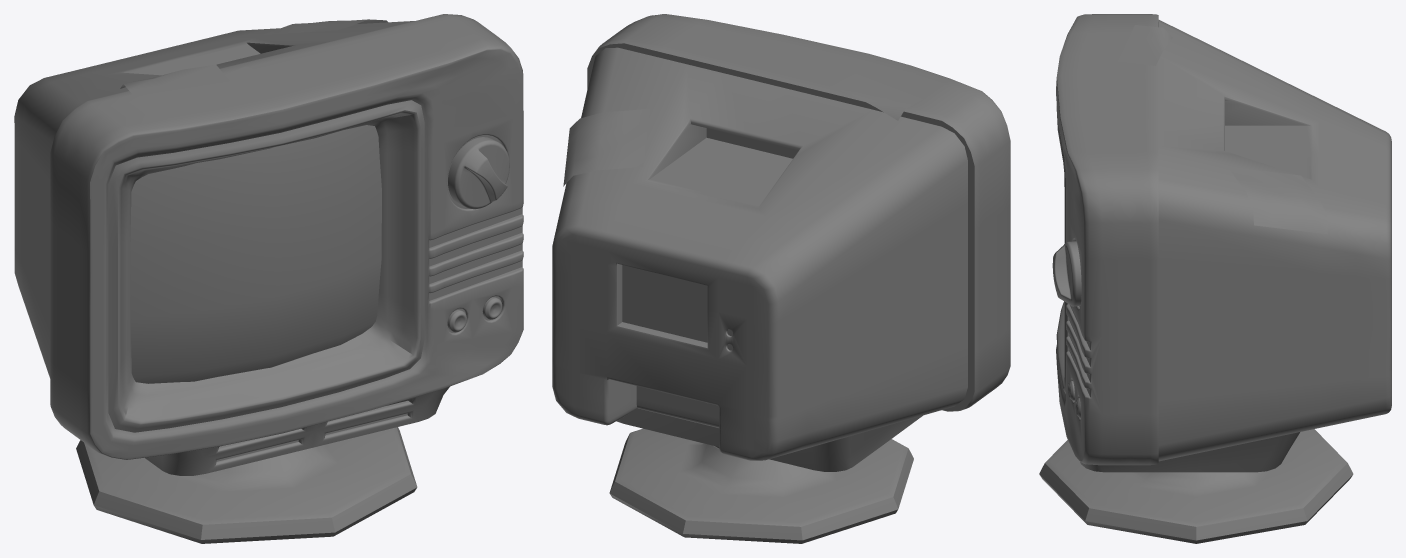
Rendered from TV-Meshgroup-up.glb.
The picture shows the model from 3 angles, left to right: view 1: azimuth 30°, elevation 25°; view 2: azimuth 150°, elevation 25°; view 3: azimuth 270°, elevation 25°; orthographic projection. The views are drawn at different scales.
Visible parts, largest first — view 1: node_id13, node_id9, node_id5, node_id11, node_id7, node_id19, node_id15, node_id17; view 2: node_id11, node_id13, node_id5, node_id19, node_id7; view 3: node_id11, node_id13, node_id5, node_id19, node_id7, node_id15.
Part boxes in pixels (x1,y1,x2,y2): node_id13: [50, 14, 523, 459]; node_id9: [130, 125, 381, 383]; node_id5: [76, 427, 417, 543]; node_id11: [14, 21, 414, 378]; node_id7: [145, 386, 449, 475]; node_id19: [120, 19, 387, 110]; node_id15: [448, 137, 509, 209]; node_id17: [447, 297, 502, 332]; node_id11: [552, 47, 967, 460]; node_id13: [587, 14, 1010, 411]; node_id5: [609, 428, 913, 543]; node_id19: [563, 62, 923, 186]; node_id7: [616, 408, 922, 471]; node_id11: [1158, 20, 1391, 461]; node_id13: [1056, 14, 1158, 465]; node_id5: [1039, 429, 1353, 543]; node_id19: [1081, 25, 1327, 234]; node_id7: [1080, 432, 1299, 472]; node_id15: [1052, 241, 1081, 306].
Size of the model in its own units: 0.512 by 0.4948 by 0.4029.
8 materials, 8 textured.
